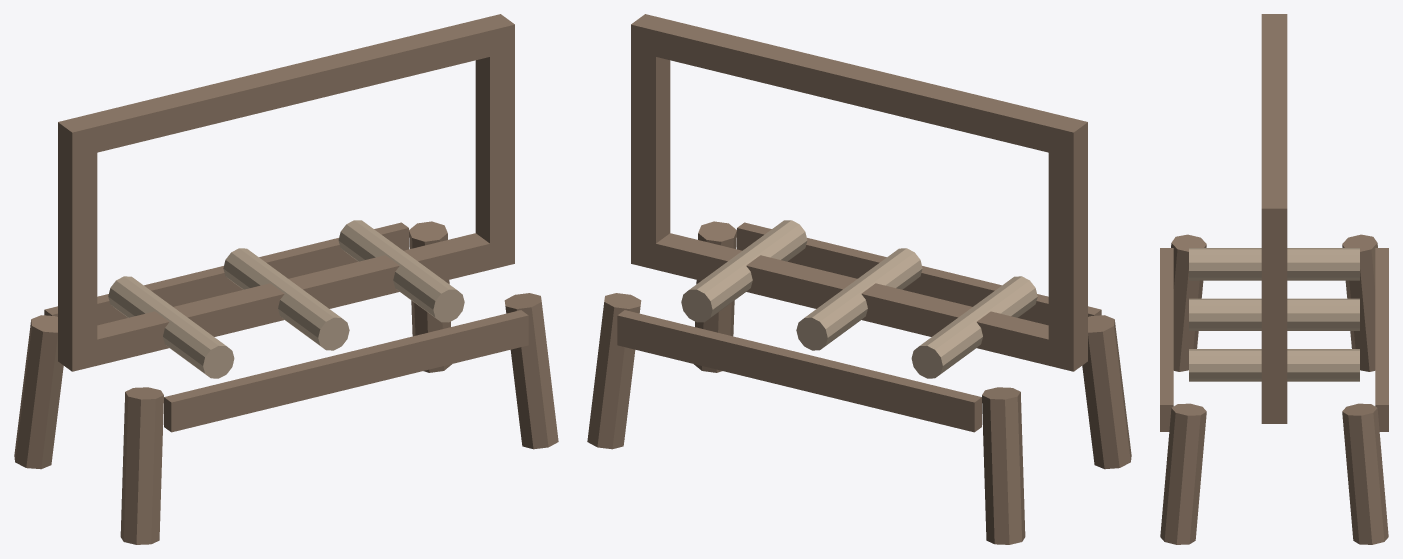
File: prop_footstool.glb
The picture shows the model from 3 angles, left to right: view 1: azimuth 30°, elevation 25°; view 2: azimuth 150°, elevation 25°; view 3: azimuth 270°, elevation 25°; orthographic projection. The views are drawn at different scales.
Visible parts, largest first — view 1: prop_footstool/footstool_frame_rail_00003, prop_footstool/footstool_apron_long_00011, prop_footstool/footstool_frame_rail_00002, prop_footstool/footstool_frame_stile_00000, prop_footstool/footstool_frame_stile_00001, prop_footstool/footstool_leg_00007, prop_footstool/footstool_apron_long_00012, prop_footstool/footstool_leg_00008, prop_footstool/footstool_leg_00009, prop_footstool/footstool_roller_00006, prop_footstool/footstool_roller_00004, prop_footstool/footstool_roller_00005 (+1 smaller); view 2: prop_footstool/footstool_frame_rail_00003, prop_footstool/footstool_apron_long_00012, prop_footstool/footstool_frame_rail_00002, prop_footstool/footstool_frame_stile_00000, prop_footstool/footstool_frame_stile_00001, prop_footstool/footstool_leg_00008, prop_footstool/footstool_apron_long_00011, prop_footstool/footstool_leg_00007, prop_footstool/footstool_leg_00010, prop_footstool/footstool_roller_00006, prop_footstool/footstool_roller_00004, prop_footstool/footstool_roller_00005 (+1 smaller); view 3: prop_footstool/footstool_frame_stile_00001, prop_footstool/footstool_leg_00009, prop_footstool/footstool_leg_00010, prop_footstool/footstool_roller_00004, prop_footstool/footstool_roller_00005, prop_footstool/footstool_roller_00006, prop_footstool/footstool_frame_rail_00003, prop_footstool/footstool_leg_00007, prop_footstool/footstool_leg_00008, prop_footstool/footstool_apron_long_00011, prop_footstool/footstool_apron_long_00012, prop_footstool/footstool_frame_stile_00000.
Boxes of the visible parts, <box> form: prop_footstool/footstool_frame_rail_00003: <box>83,20,489,152</box>; prop_footstool/footstool_apron_long_00011: <box>164,310,528,432</box>; prop_footstool/footstool_frame_rail_00002: <box>97,233,489,365</box>; prop_footstool/footstool_frame_stile_00000: <box>58,116,97,371</box>; prop_footstool/footstool_frame_stile_00001: <box>475,14,514,269</box>; prop_footstool/footstool_leg_00007: <box>120,387,163,544</box>; prop_footstool/footstool_apron_long_00012: <box>44,222,408,325</box>; prop_footstool/footstool_leg_00008: <box>14,315,63,469</box>; prop_footstool/footstool_leg_00009: <box>504,293,558,449</box>; prop_footstool/footstool_roller_00006: <box>338,220,464,322</box>; prop_footstool/footstool_roller_00004: <box>108,276,234,378</box>; prop_footstool/footstool_roller_00005: <box>223,248,349,350</box>; prop_footstool/footstool_frame_rail_00003: <box>656,20,1062,152</box>; prop_footstool/footstool_apron_long_00012: <box>617,310,981,432</box>; prop_footstool/footstool_frame_rail_00002: <box>656,233,1048,365</box>; prop_footstool/footstool_frame_stile_00000: <box>1048,116,1087,371</box>; prop_footstool/footstool_frame_stile_00001: <box>631,14,670,269</box>; prop_footstool/footstool_leg_00008: <box>982,387,1025,544</box>; prop_footstool/footstool_apron_long_00011: <box>737,222,1101,325</box>; prop_footstool/footstool_leg_00007: <box>1082,315,1131,469</box>; prop_footstool/footstool_leg_00010: <box>587,293,641,449</box>; prop_footstool/footstool_roller_00006: <box>681,220,807,322</box>; prop_footstool/footstool_roller_00004: <box>911,276,1037,378</box>; prop_footstool/footstool_roller_00005: <box>796,248,922,350</box>; prop_footstool/footstool_frame_stile_00001: <box>1261,197,1287,423</box>; prop_footstool/footstool_leg_00009: <box>1160,403,1206,544</box>; prop_footstool/footstool_leg_00010: <box>1342,403,1388,544</box>; prop_footstool/footstool_roller_00004: <box>1189,248,1359,280</box>; prop_footstool/footstool_roller_00005: <box>1189,298,1359,330</box>; prop_footstool/footstool_roller_00006: <box>1189,349,1359,381</box>; prop_footstool/footstool_frame_rail_00003: <box>1261,25,1287,197</box>; prop_footstool/footstool_leg_00007: <box>1171,234,1206,371</box>; prop_footstool/footstool_leg_00008: <box>1342,234,1377,371</box>; prop_footstool/footstool_apron_long_00011: <box>1160,248,1173,431</box>; prop_footstool/footstool_apron_long_00012: <box>1375,248,1388,431</box>; prop_footstool/footstool_frame_stile_00000: <box>1261,14,1287,24</box>.
Size of the model in its own units: 0.62 by 0.5077 by 0.308.
